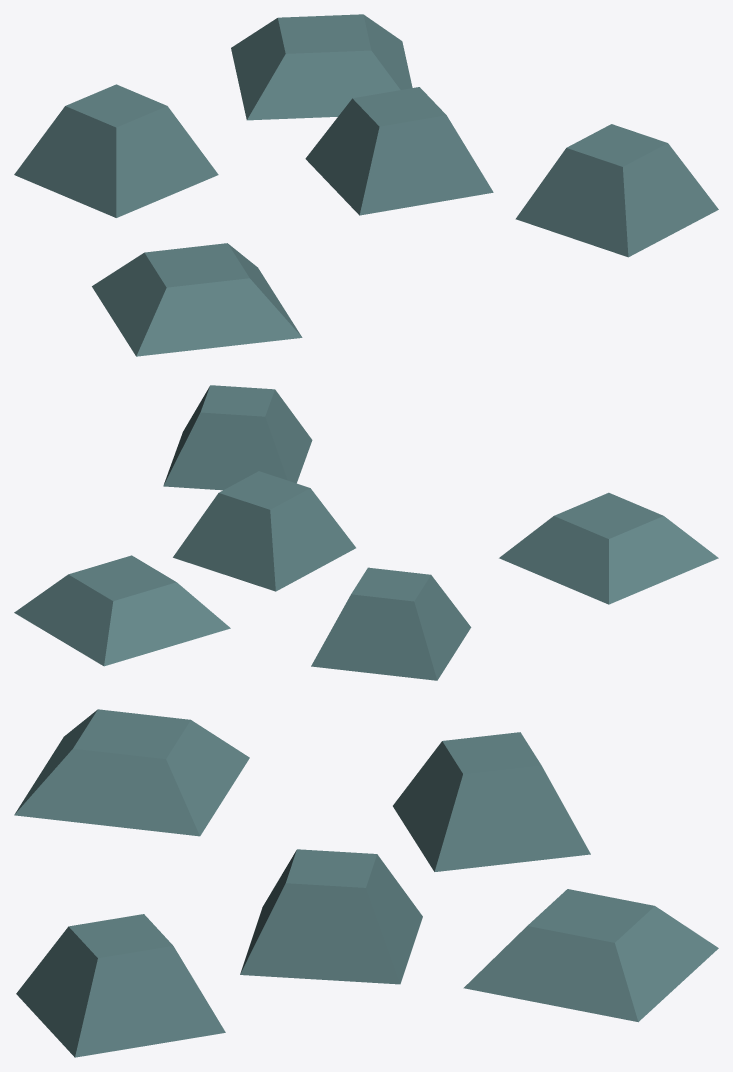
The model's file is rocks_smallA.glb.
3 views of the same model, one above another, from view 1: azimuth 30°, elevation 25°; view 2: azimuth 150°, elevation 25°; view 3: azimuth 270°, elevation 25° (orthographic). The views are drawn at different scales.
Visible parts, largest first — view 1: rocks_smallA; view 2: rocks_smallA; view 3: rocks_smallA.
Part boxes in pixels (box(x1,y1,x2,y2)): rocks_smallA: box(14, 14, 718, 356); rocks_smallA: box(14, 385, 718, 680); rocks_smallA: box(14, 709, 718, 1057).
Bounding box in the file's own units: 0.9372 × 0.1051 × 0.8698.
